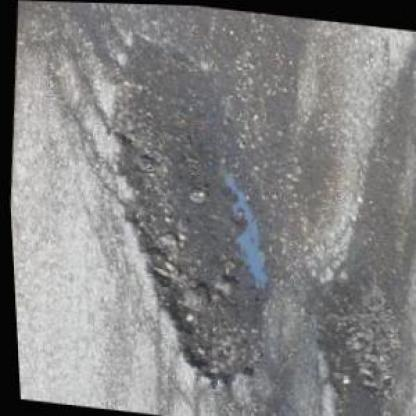pothole: (79, 29, 291, 387), (298, 266, 409, 409)
